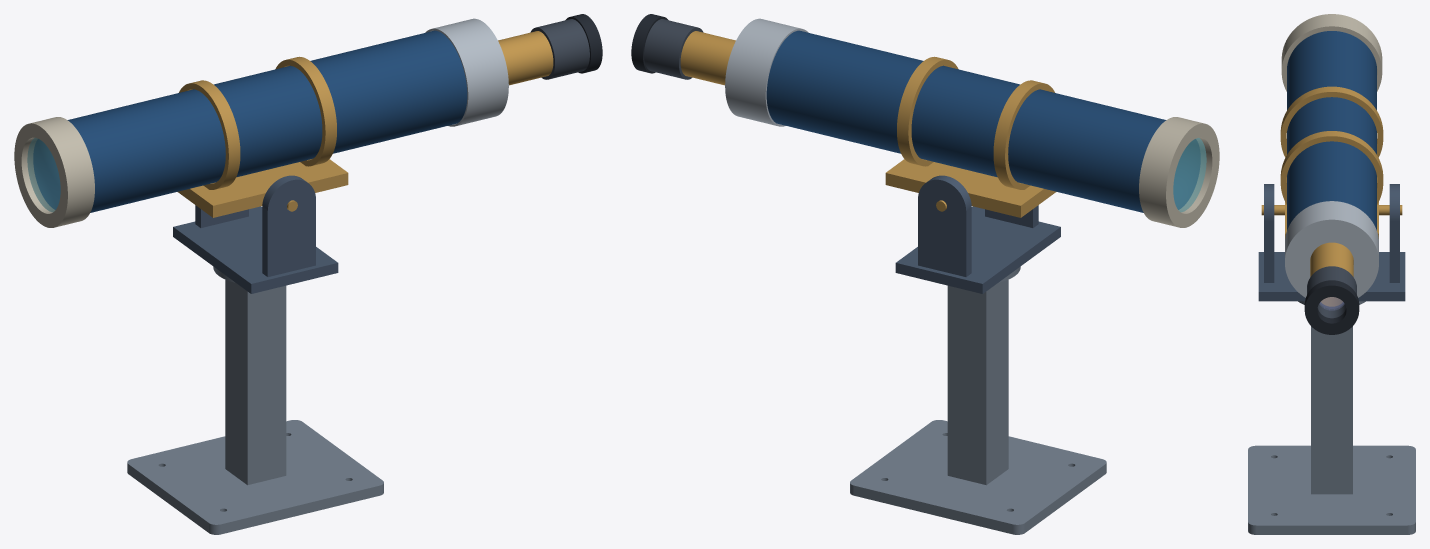
File: telescope_extended.glb
3 views of the same model, side by side, from view 1: azimuth 30°, elevation 25°; view 2: azimuth 150°, elevation 25°; view 3: azimuth 270°, elevation 25° (orthographic). The views are drawn at different scales.
Visible parts, largest first — view 1: telescope_extended (×10); view 2: telescope_extended (×10); view 3: telescope_extended (×10).
Boxes of the visible parts, x1=… form: telescope_extended (×10): x1=14, y1=14, x2=602, y2=534; telescope_extended (×10): x1=631, y1=14, x2=1219, y2=534; telescope_extended (×10): x1=1248, y1=14, x2=1415, y2=534.
Bounding box in the file's own units: 0.566 × 0.404 × 0.16.
